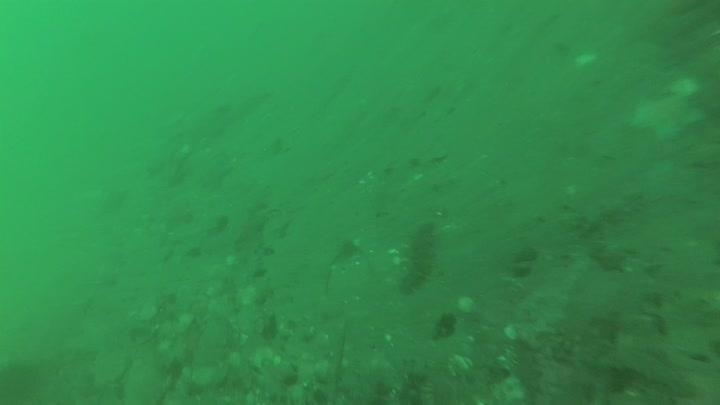echinus: (1, 357, 44, 404)
holothurian: (396, 219, 440, 297)
starfish: (627, 87, 708, 145), (595, 244, 629, 272)
